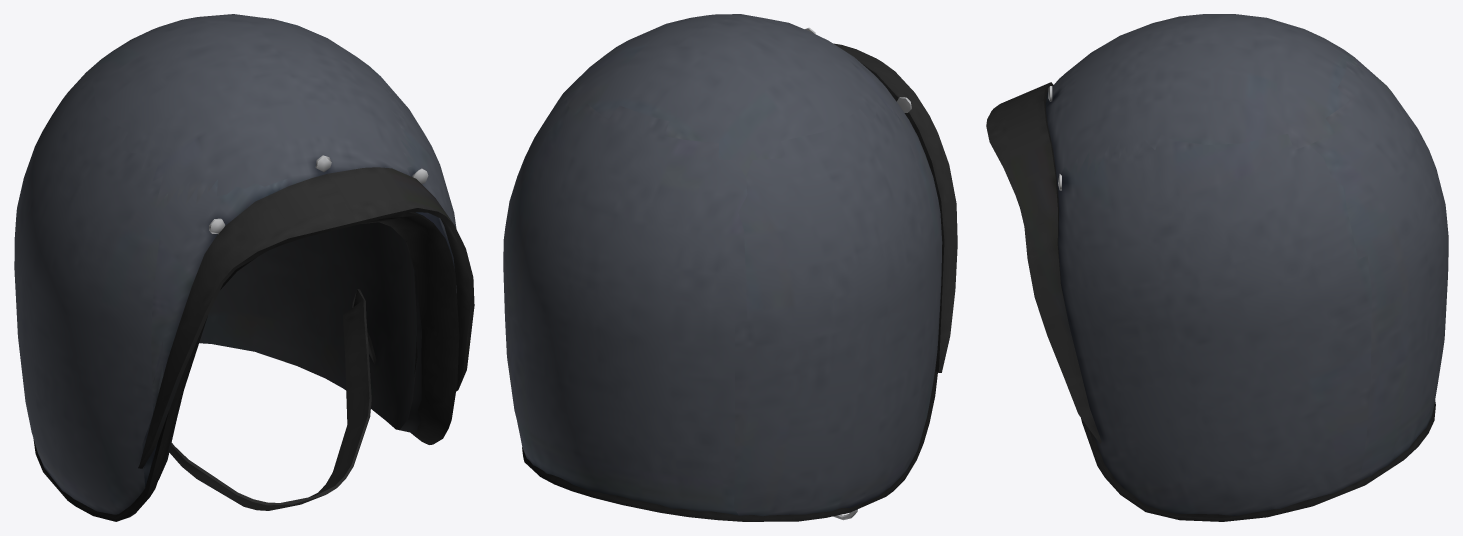
The model's file is helmet_1_lod1.glb.
3 views of the same model, side by side, from view 1: azimuth 30°, elevation 25°; view 2: azimuth 150°, elevation 25°; view 3: azimuth 270°, elevation 25° (orthographic). The views are drawn at different scales.
Parts seen in each view (by area): view 1: body; view 2: body; view 3: body.
Part boxes in pixels (x1,y1,x2,y2): body: [14, 14, 474, 521]; body: [503, 14, 957, 521]; body: [986, 14, 1448, 521].
Size of the model in its own units: 0.2676 by 0.3076 by 0.2944.
1 material, 1 textured.
